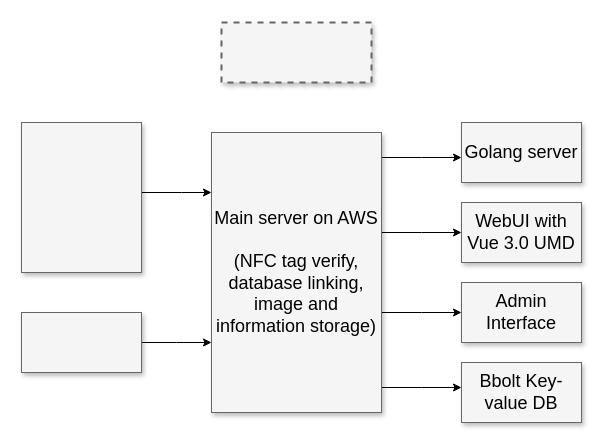
Some shapes in this 605 by 447 pixel diagram are drawn without their labels. The shapes that lost their labels are listed below. From the top down, each one's centre as x and y in pixels, then its label:
At (297,53): "NFC Verify Server".
At (82,199): "User scan tag and Access".
At (82,344): "Admin access".
